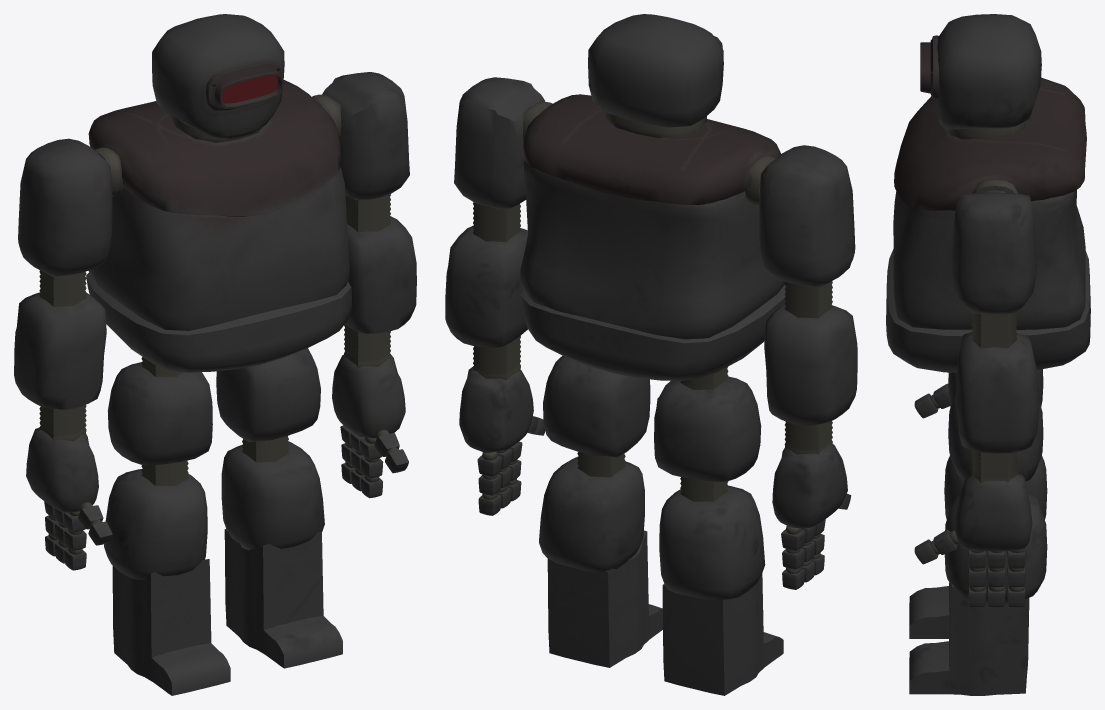
Rendered from RoboForte.fbx.
3 views of the same model, side by side, from view 1: azimuth 30°, elevation 25°; view 2: azimuth 150°, elevation 25°; view 3: azimuth 270°, elevation 25° (orthographic). The views are drawn at different scales.
Visible parts, largest first — view 1: Torso; view 2: Torso; view 3: Torso.
Boxes of the visible parts, box(x1,y1,x2,y2) form: Torso: box(14, 14, 416, 695); Torso: box(445, 14, 857, 695); Torso: box(886, 14, 1090, 695).
Bounding box in the file's own units: 170 × 269 × 79.27.
1 material, 1 textured.
